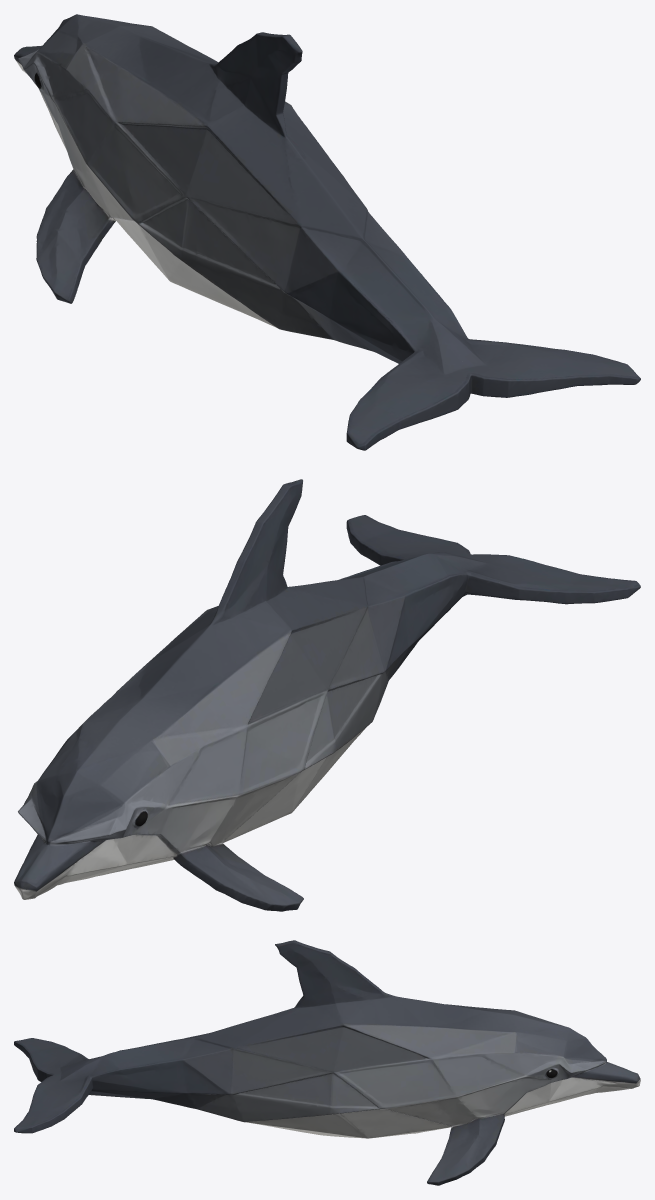
The model's file is delfin.glb.
The picture shows the model from 3 angles, top to bottom: view 1: azimuth 30°, elevation 25°; view 2: azimuth 150°, elevation 25°; view 3: azimuth 270°, elevation 25°; orthographic projection. The views are drawn at different scales.
Visible parts, largest first — view 1: tripo_node_cad83565-cfe6-4729-bebe-da2bbf345b12; view 2: tripo_node_cad83565-cfe6-4729-bebe-da2bbf345b12; view 3: tripo_node_cad83565-cfe6-4729-bebe-da2bbf345b12.
Boxes of the visible parts, left/top/right/bottom form: tripo_node_cad83565-cfe6-4729-bebe-da2bbf345b12: left=14, top=14, right=640, bottom=450; tripo_node_cad83565-cfe6-4729-bebe-da2bbf345b12: left=14, top=479, right=640, bottom=911; tripo_node_cad83565-cfe6-4729-bebe-da2bbf345b12: left=14, top=940, right=640, bottom=1185.
Bounding box in the file's own units: 0.3421 × 0.3632 × 1.
Materials: 1 (1 with a texture image).
